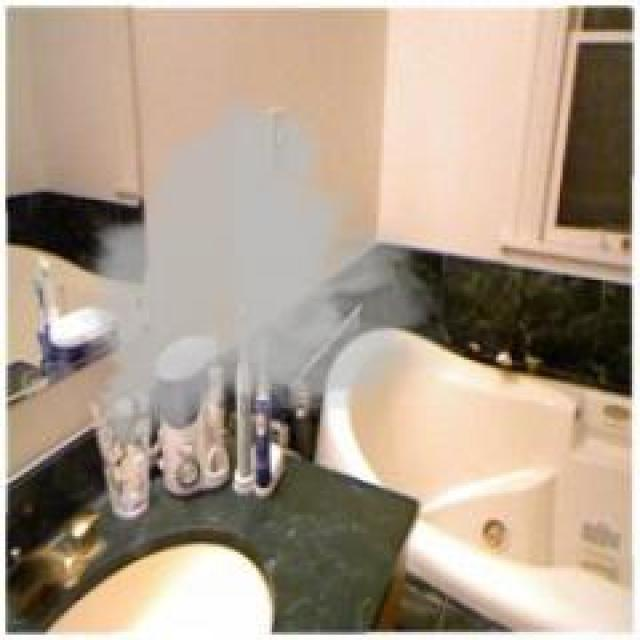Smoke: (85, 103, 432, 458)
